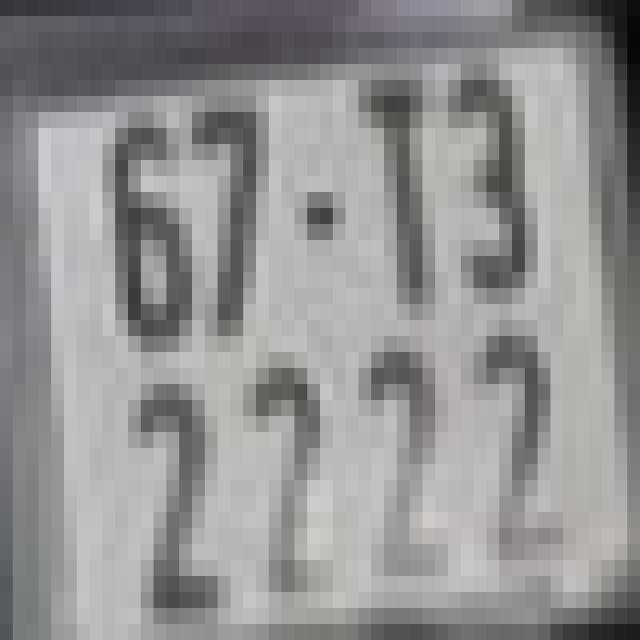2: (237, 360, 339, 616), (474, 336, 576, 576), (358, 352, 461, 576), (128, 384, 230, 608)
3: (448, 80, 538, 288)
6: (115, 112, 192, 336)
7: (192, 112, 269, 336)
T: (358, 80, 436, 304)
